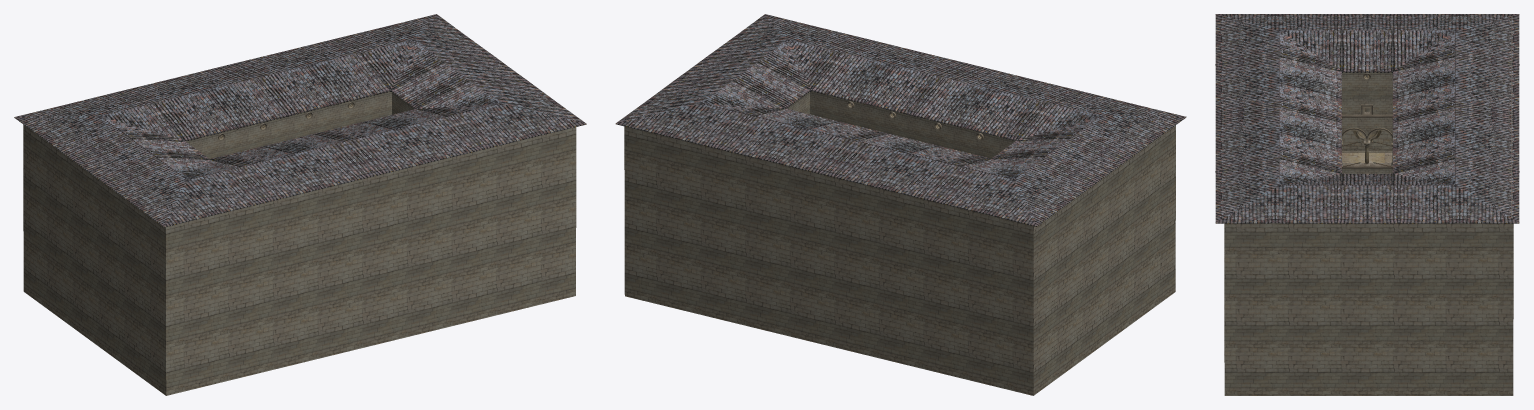
The model's file is Sponza.glb.
3 renders of one model, left to right at view 1: azimuth 30°, elevation 25°; view 2: azimuth 150°, elevation 25°; view 3: azimuth 270°, elevation 25°, orthographic.
Bounding box in the file's own units: 29.77 × 12.45 × 18.31.
25 materials, 25 textured.
